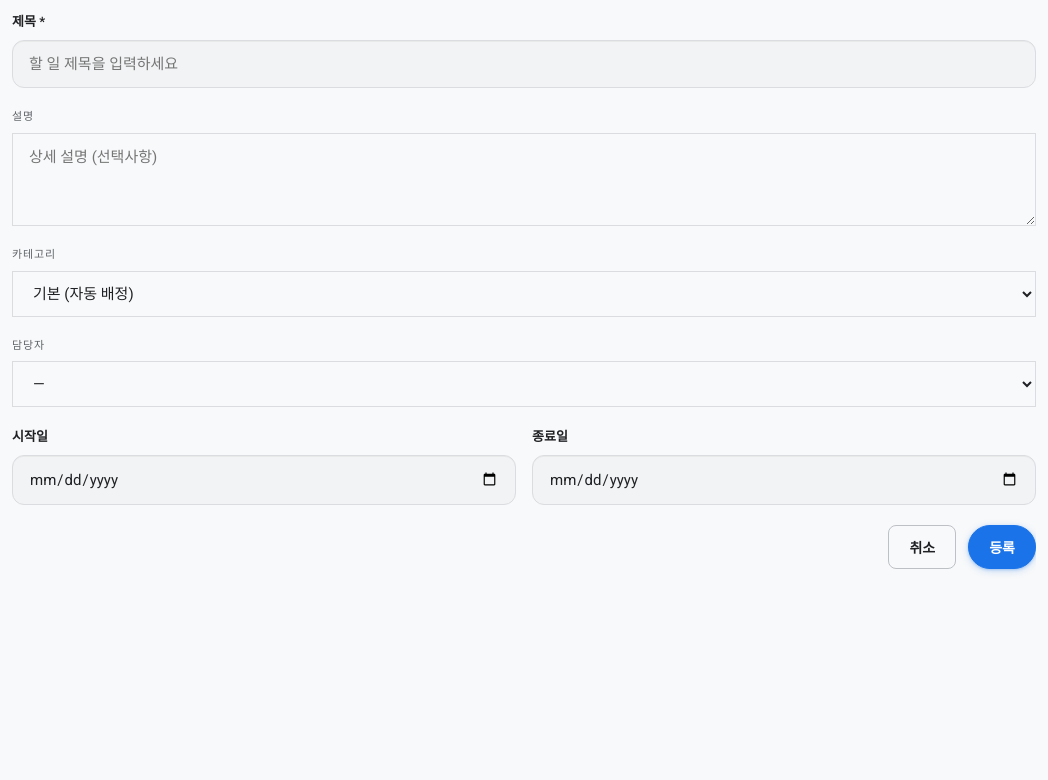
Test: TodoForm › 종료일 < 시작일이면 에러 메시지가 표시된다 (BR-06)
Type "테스트" into the field labelled "제목 *" at (524,64), box x1=12 y1=40 x2=1036 y2=88
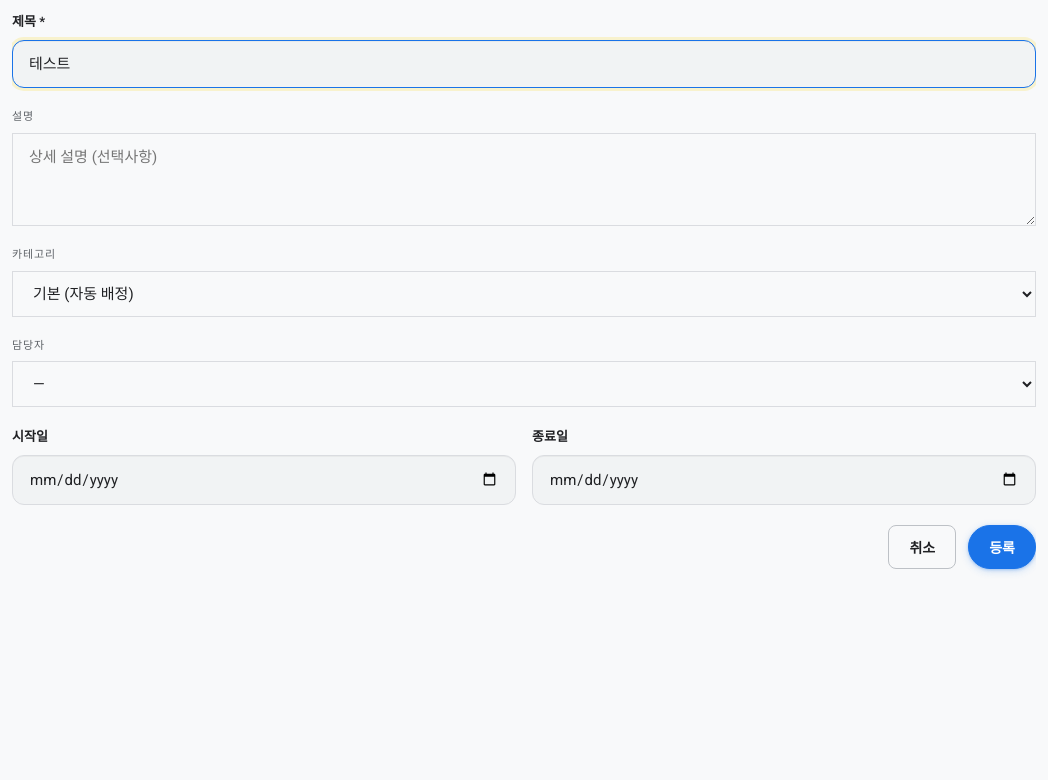
Type "2026-06-10" into the date field labelled "시작일" at (264,480), box x1=12 y1=454 x2=516 y2=505
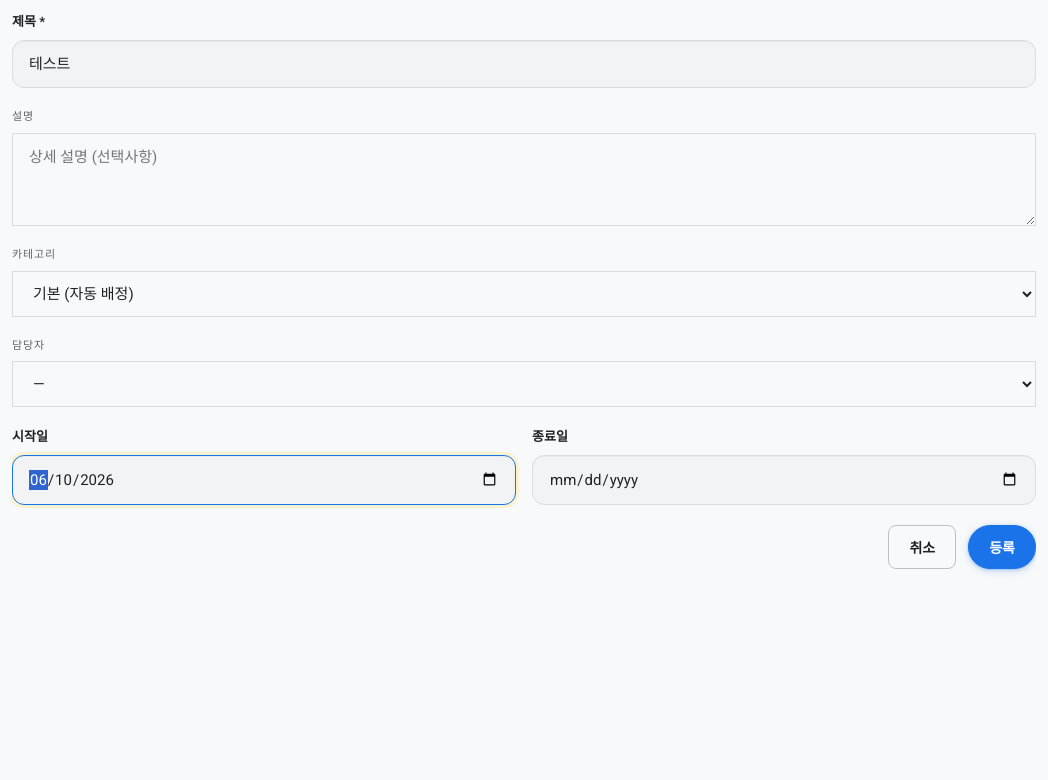
Type "2026-06-01" into the date field labelled "종료일" at (784,480), box x1=532 y1=454 x2=1036 y2=505
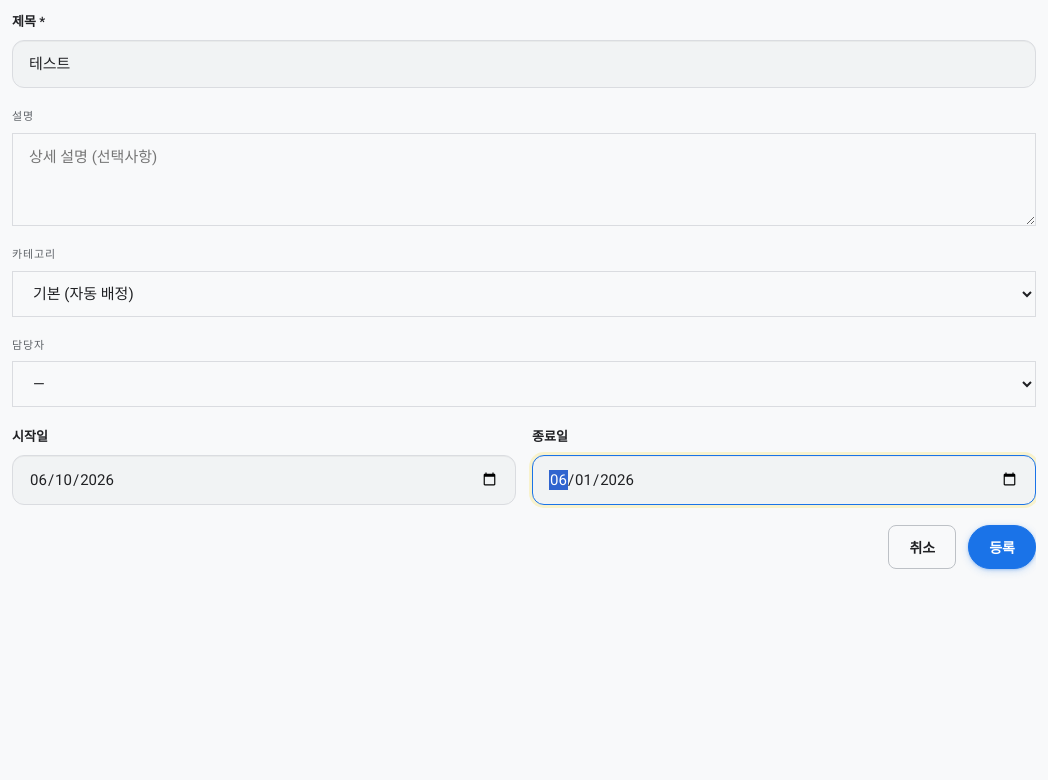
Click the button "등록" at (1002,547), box x1=968 y1=525 x2=1036 y2=569
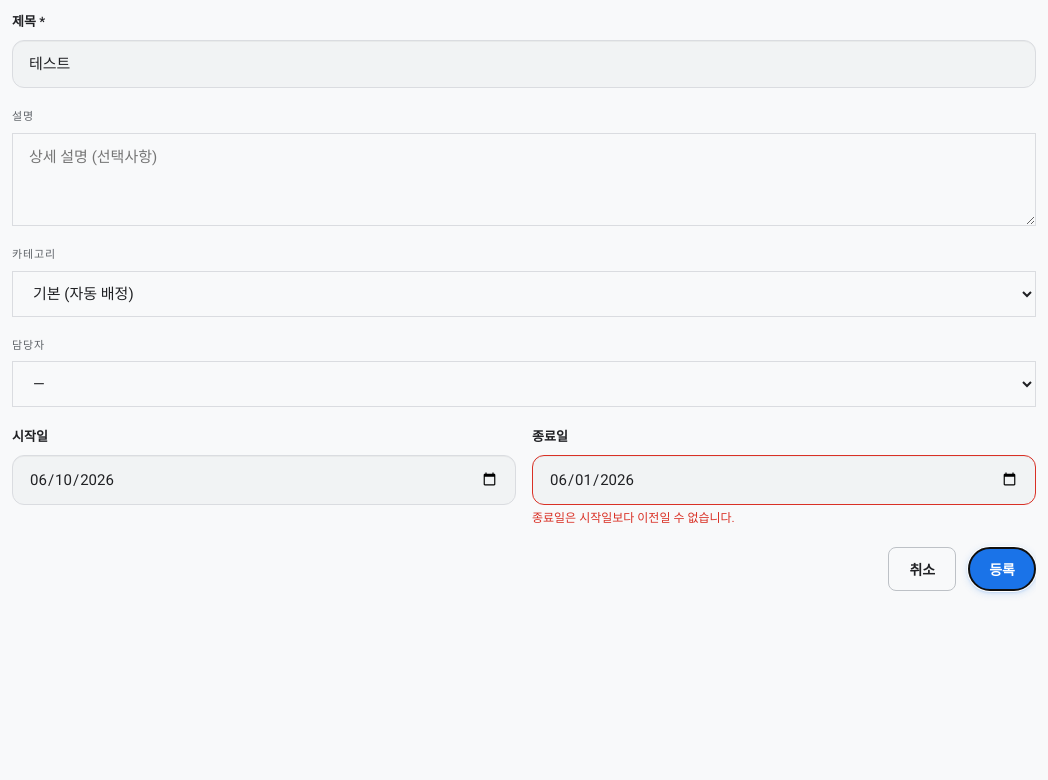
Check: the message reads "종료일은 시작일보다 이전일 수 없습니다.", box x1=532 y1=511 x2=735 y2=525
